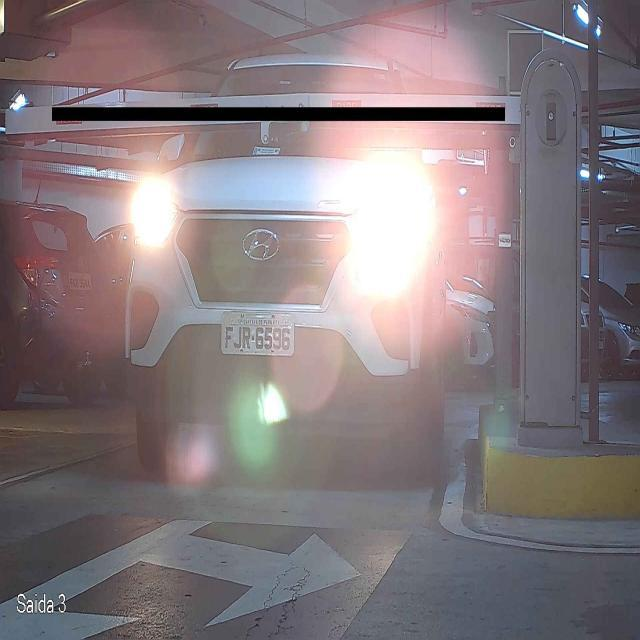old_plate: (220, 310, 296, 357)
